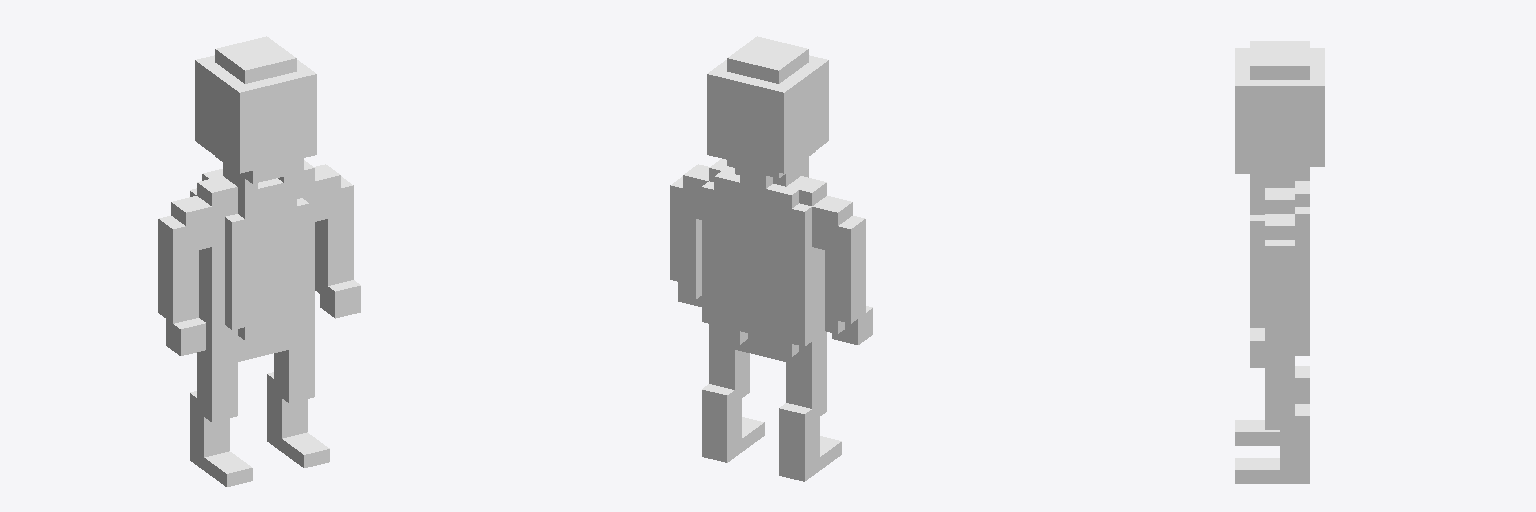
Rendered from storeManagerV1Angy.obj.
3 views of the same model, side by side, from view 1: azimuth 30°, elevation 25°; view 2: azimuth 150°, elevation 25°; view 3: azimuth 270°, elevation 25° (orthographic).
Parts seen in each view (by area): view 1: object 1; view 2: object 1; view 3: object 1.
Boxes of the visible parts, box(x1,y1,x2,y2) form: object 1: box(158, 36, 360, 486); object 1: box(670, 36, 872, 481); object 1: box(1235, 41, 1324, 483).
Bounding box in the file's own units: 1.4 × 3 × 0.6.